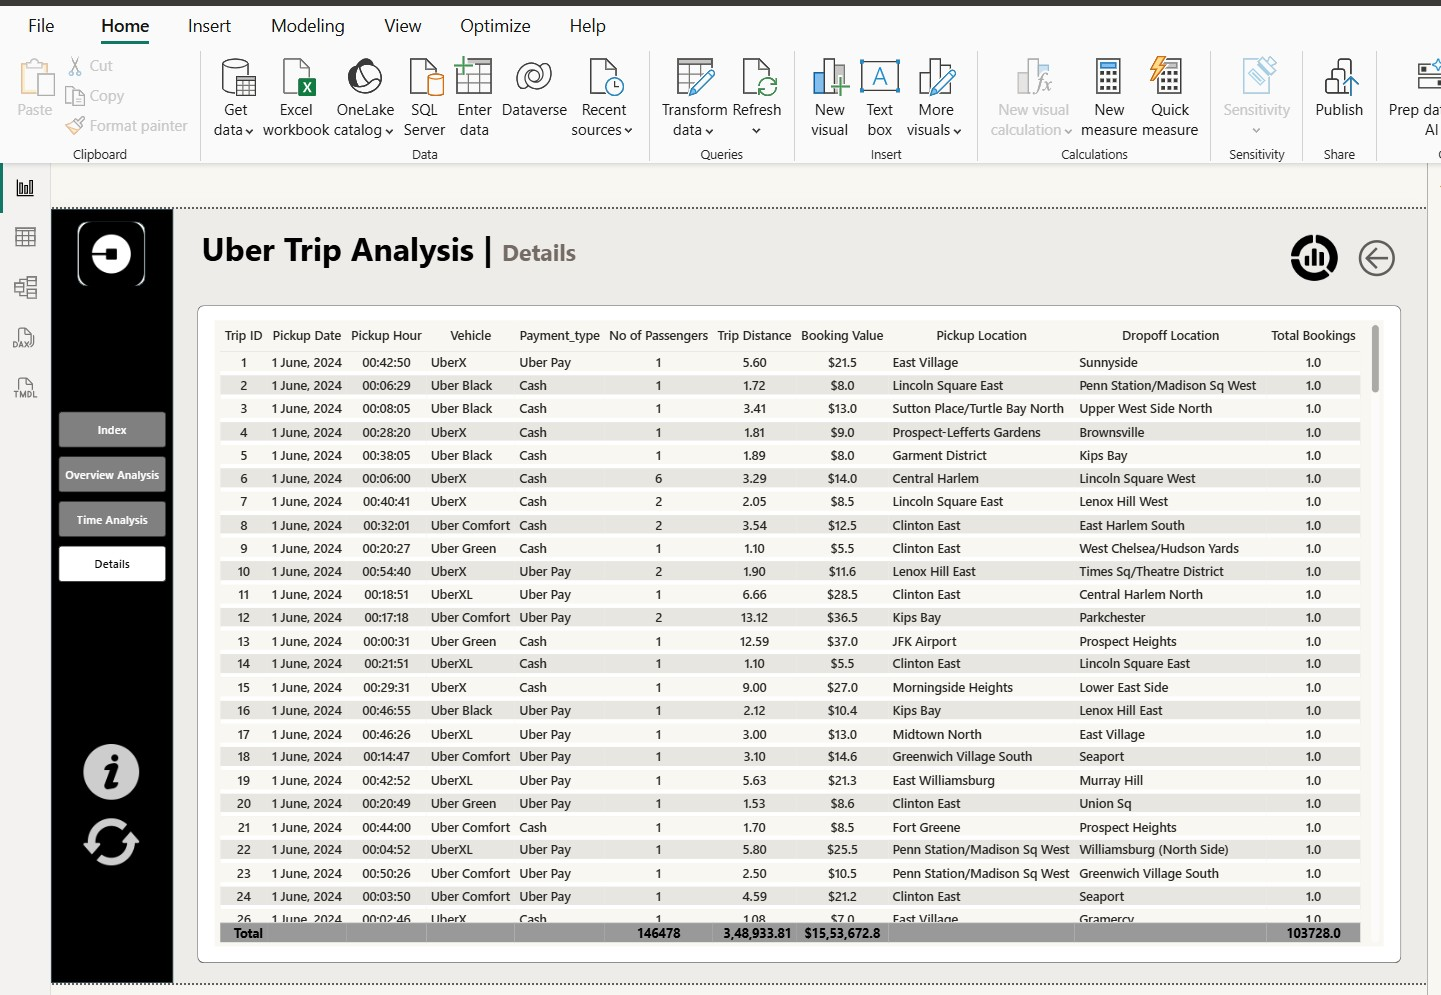

The dashboard page shown, as its layout file describes it:
{"tool":"powerbi","page":{"name":"Details","canvas":[1600,900],"ordinal":3},"visuals":[{"type":"shape","box":[0,0,142,900],"z":0},{"type":"textbox","box":[170,16,710,80],"z":1000},{"type":"shape","box":[170,112.5,1400,765],"z":2000},{"type":"tableEx","fields":{"Values":["Trip Details.Trip ID","Trip Details.Pickup Date","Trip Details.Pickup Hour (HH MM SS)","Trip Details.Vehicle","Trip Details.Payment_type","Sum(Trip Details.passenger_count)","Key Measures.Total Trip Distance Measure","Key Measures.Total Booking Value","Location Table.Location","Trip Details.Dropoff Location Name","Key Measures.Total Bookings"]},"box":[190.4,129.4,1359,728.2],"z":3000},{"type":"actionButton","box":[1515.1,27.1,54.3,58.4],"z":4000},{"type":"image","box":[1442.1,27.1,54.3,58.4],"z":5000},{"type":"shape","box":[30.8,14.6,79.2,75.4],"z":6000},{"type":"image","box":[29.3,14.3,82.1,75.7],"z":7000},{"type":"pageNavigator","box":[8.3,235.8,125.2,200.3],"z":8000},{"type":"image","box":[14.6,621.9,110.6,64.7],"z":10000},{"type":"image","box":[14.6,703.3,110.6,64.7],"z":11000}]}

Visuals, with their boxes on the page's 1600x900 design canvas (x1, y1, x2, y2). These are canvas units, not pixel positions in the 1441x995 screenshot, which may show the page scaled, cropped or inside an application window:
shape: x1=0, y1=0, x2=142, y2=900
textbox: x1=170, y1=16, x2=880, y2=96
shape: x1=170, y1=112, x2=1570, y2=878
tableEx - Trip Details.Trip ID x Trip Details.Pickup Date: x1=190, y1=129, x2=1549, y2=858
actionButton: x1=1515, y1=27, x2=1569, y2=86
image: x1=1442, y1=27, x2=1496, y2=86
shape: x1=31, y1=15, x2=110, y2=90
image: x1=29, y1=14, x2=111, y2=90
pageNavigator: x1=8, y1=236, x2=134, y2=436
image: x1=15, y1=622, x2=125, y2=687
image: x1=15, y1=703, x2=125, y2=768
